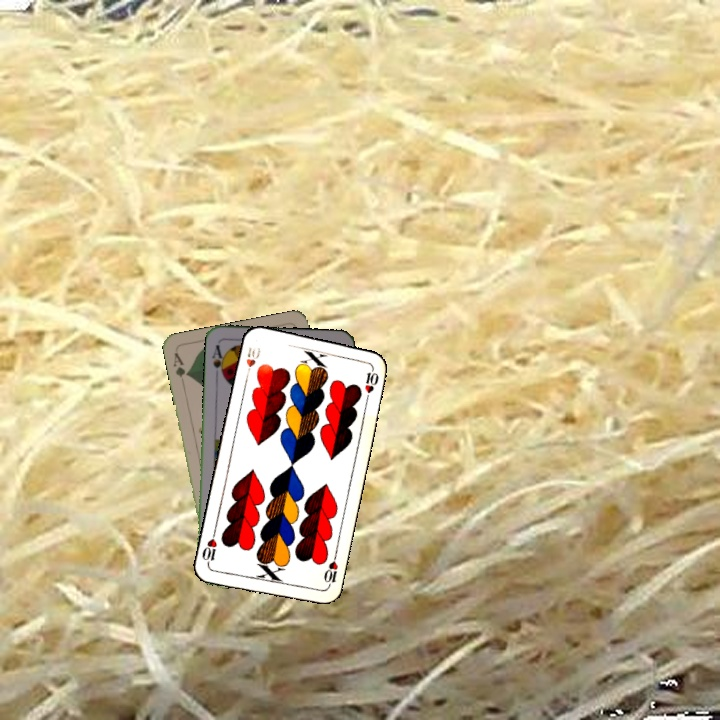GA: (169, 349, 191, 388)
H10: (320, 550, 340, 590), (242, 343, 263, 381)
SA: (208, 341, 228, 380)
